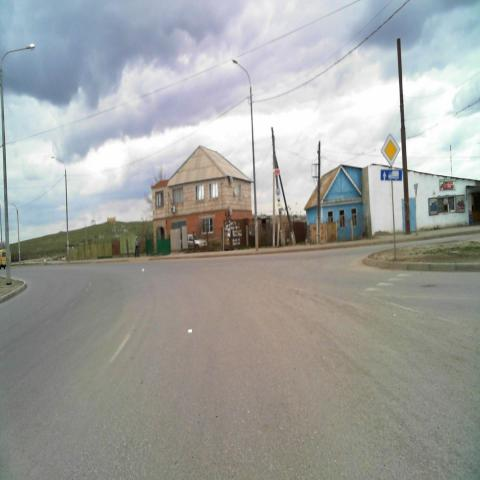6_15_1: (380, 167, 402, 183)
